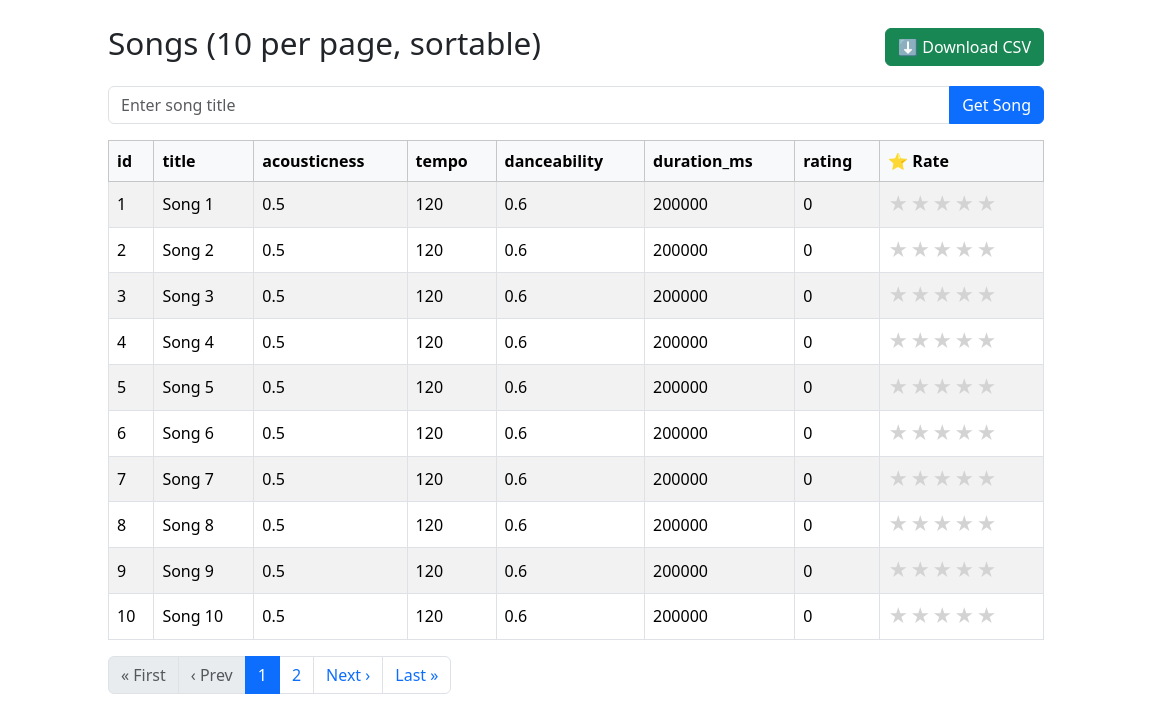
Scenario: App Component › sorting toggles column order
Expected: the text "Song 1" is shown, [154,181,254,227]
Click the column heading "title" at (204, 161), box [154,140,254,181]
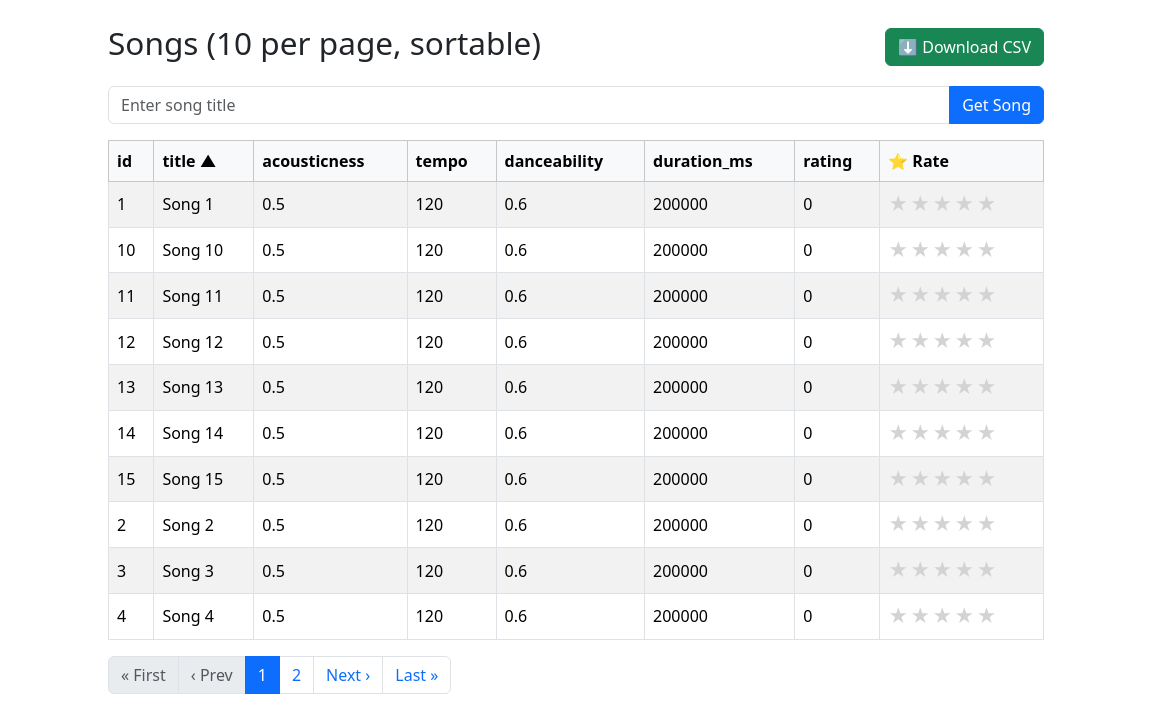
Expected: the column heading "title ▲" is shown
Click the column heading "title ▲" at (204, 161), box [154,140,254,181]
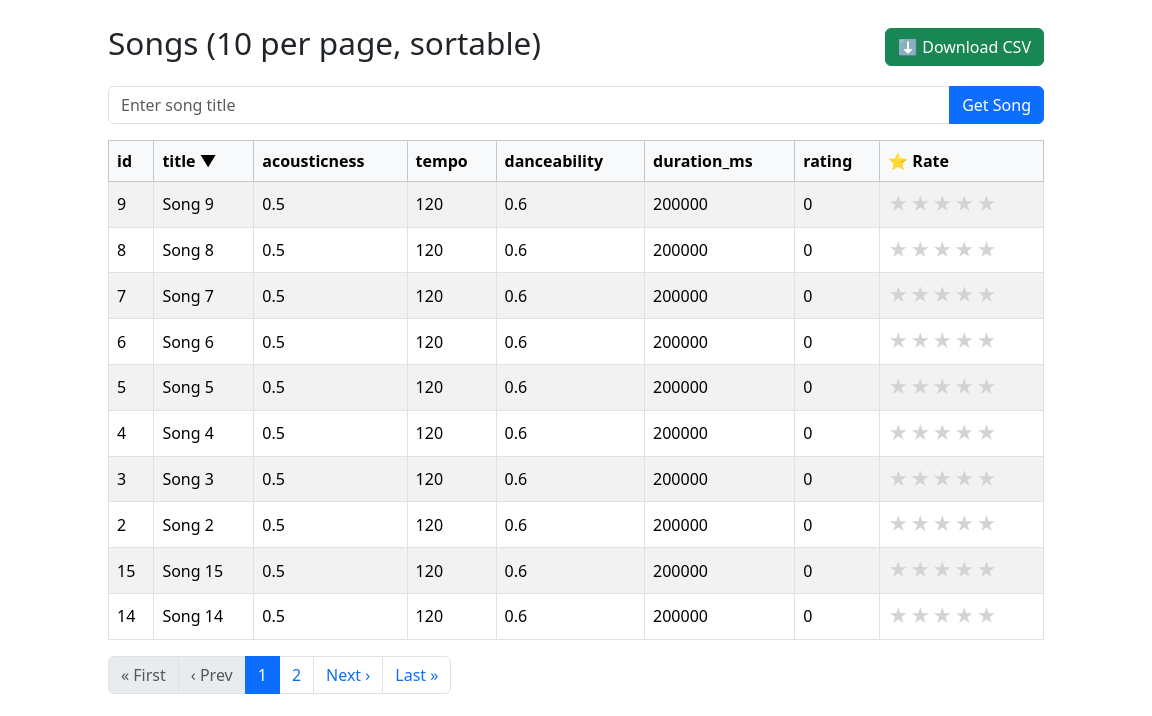
Expected: the column heading "title ▼" is shown, [154,140,254,181]
